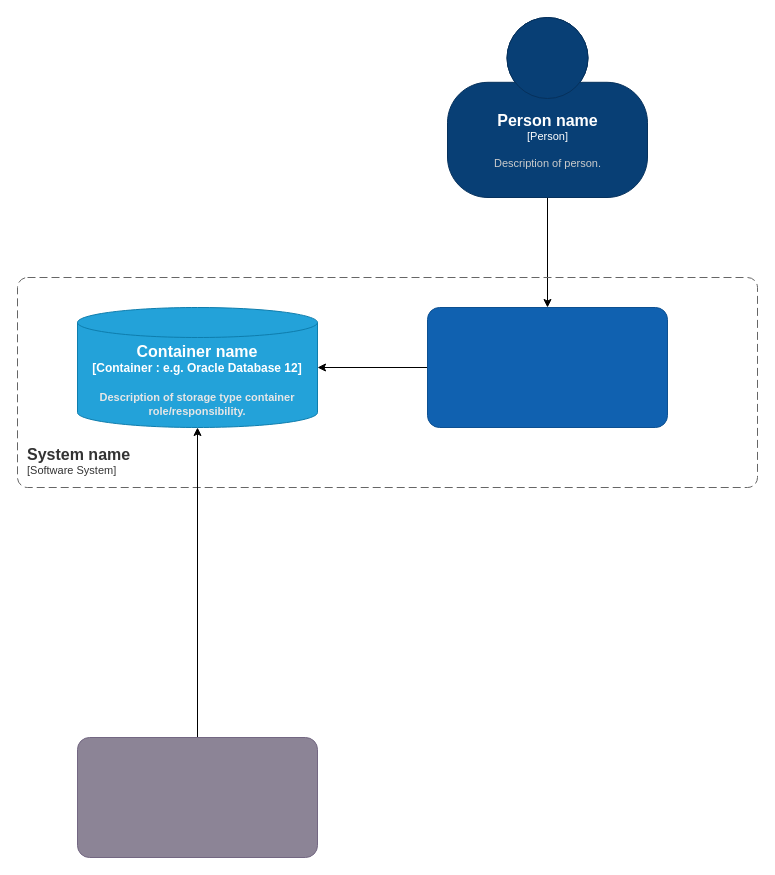
The diagram is 775 pixels wide and 875 high, and some of its shapes have lost their labels. Each missing label, with the centre of its shape:
External system name [Software System] Description of external software system.: point 197,797
System name [Software System] Description of software system.: point 547,367
